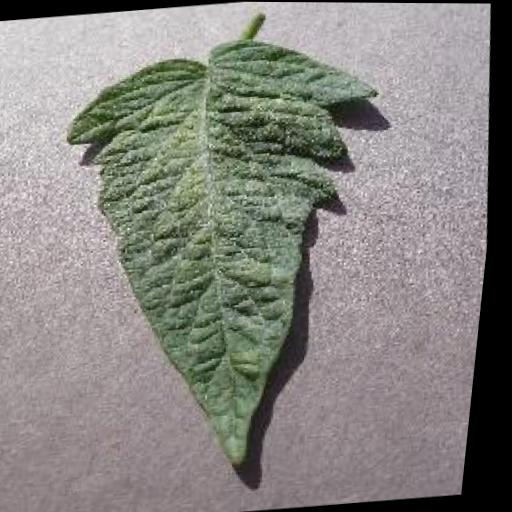Spider Mites: (32, 25, 421, 487)
